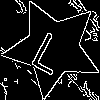L: (28, 22, 75, 76)
